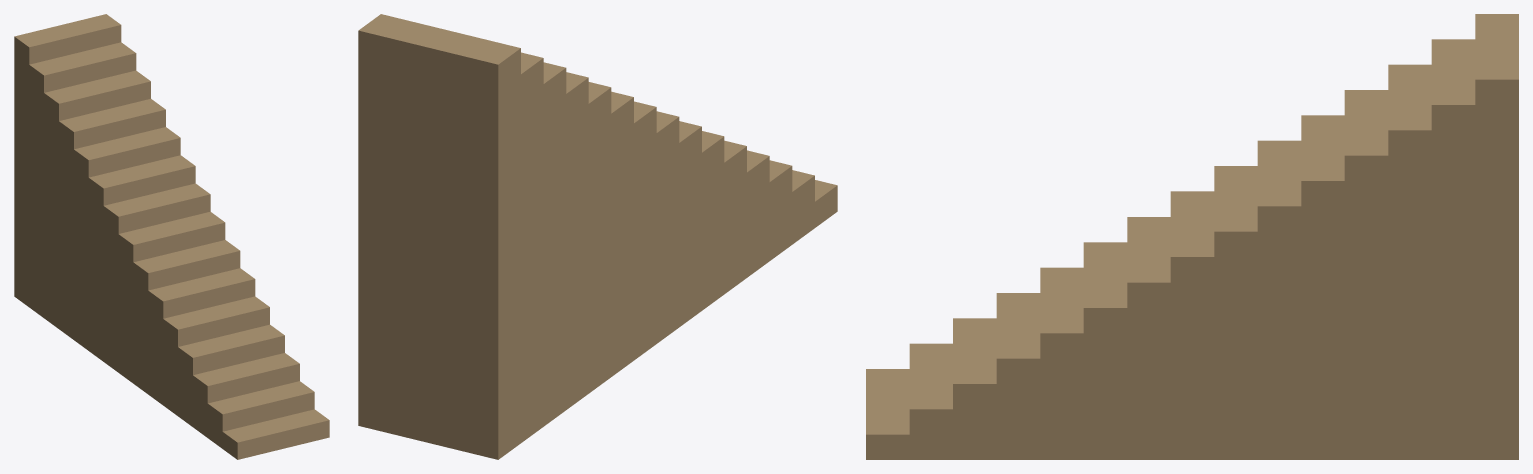
The model's file is res_stairs.glb.
3 views of the same model, side by side, from view 1: azimuth 30°, elevation 25°; view 2: azimuth 150°, elevation 25°; view 3: azimuth 270°, elevation 25° (orthographic). The views are drawn at different scales.
Parts seen in each view (by area): view 1: res_stairs; view 2: res_stairs; view 3: res_stairs.
Boxes of the visible parts, box(x1,y1,x2,y2) form: res_stairs: box(14, 14, 329, 459); res_stairs: box(358, 14, 837, 459); res_stairs: box(866, 14, 1518, 459).
Bounding box in the file's own units: 1 × 2.7 × 4.2.
